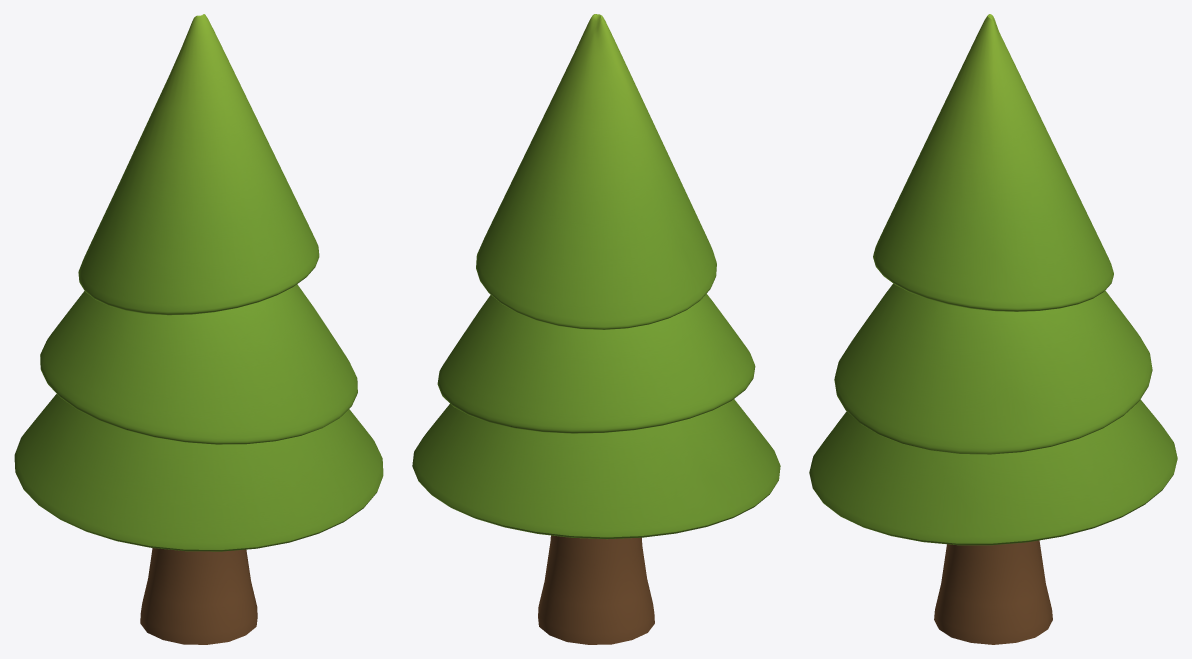
File: PineTree.fbx
3 renders of one model, left to right at view 1: azimuth 30°, elevation 25°; view 2: azimuth 150°, elevation 25°; view 3: azimuth 270°, elevation 25°, orthographic.
Parts seen in each view (by area): view 1: Tree_Trunk; view 2: Tree_Trunk; view 3: Tree_Trunk.
Part boxes in pixels (x1,y1,x2,y2): Tree_Trunk: (14,14,383,644); Tree_Trunk: (412,14,780,644); Tree_Trunk: (809,14,1177,644).
Size of the model in its own units: 263 by 477 by 263.
